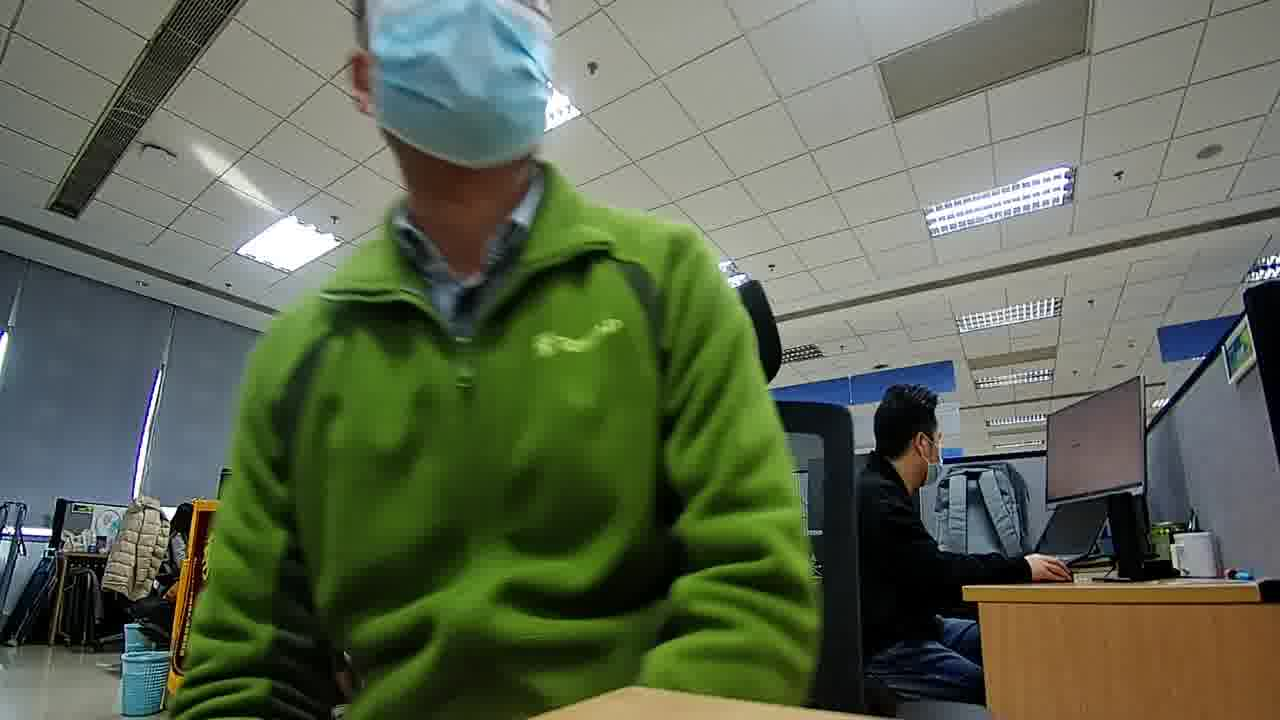mask: (367, 5, 548, 170)
person: (248, 1, 699, 368), (848, 375, 961, 549), (168, 497, 193, 553)
